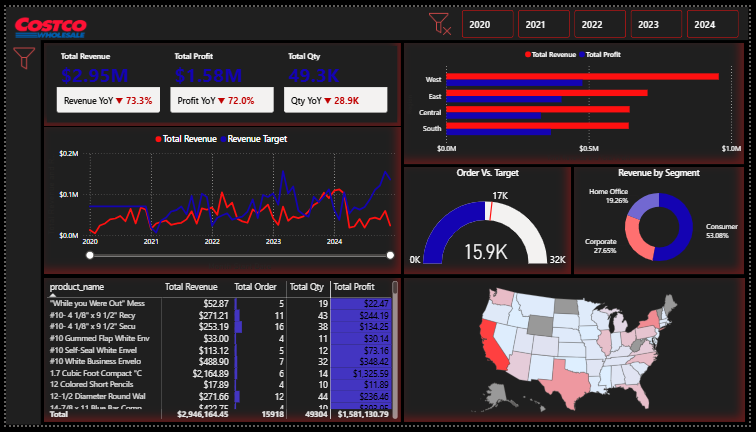

The dashboard page shown, as its layout file describes it:
{"tool":"powerbi","page":{"name":"Dashboard_1","canvas":[1280,720],"ordinal":0},"visuals":[{"type":"shape","box":[0,0,1280,57],"z":0},{"type":"shape","box":[0,0,60.5,720],"z":1000},{"type":"image","box":[0,0,155.5,70.6],"z":2000},{"type":"clusteredBarChart","fields":{"Category":["customers.Region"],"Y":["_Measures.Total Revenue","_Measures.Total Profit"]},"box":[685.9,61.8,586.1,209.1],"z":6000},{"type":"lineChart","fields":{"Y":["_Measures.Total Revenue","_Measures.Revenue Target"],"Category":["Date_table.Month Start Date"]},"box":[64.8,207.4,614.9,253],"z":7000},{"type":"gauge","title":"Order Vs. Target","fields":{"Y":["_Measures.Total Order"],"TargetValue":["_Measures.Target Order"]},"box":[685.9,275.6,288.3,185.3],"z":8000},{"type":"donutChart","title":"Revenue by Segment","fields":{"Category":["customers.Segment"],"Y":["_Measures.Total Revenue"]},"box":[979.4,276.3,293,185.2],"z":9000},{"type":"pivotTable","fields":{"Rows":["products.product_name"],"Columns":["products.product_name"],"Values":["_Measures.Total Revenue","_Measures.Total Order","_Measures.Total Qty","_Measures.Total Profit"]},"box":[64.8,468,614.9,247.7],"z":10000},{"type":"shapeMap","fields":{"Category":["customers.State"],"Value":["_Measures.Total Revenue"]},"box":[685.4,468,587.5,247.7],"z":11000},{"type":"image","title":"Clear Filter button","box":[728.5,4.7,37.9,47.4],"z":13000},{"type":"image","title":"open filter pane button","box":[10.1,67.7,41.8,43.2],"z":14000},{"type":"cardVisual","fields":{"Data":["_Measures.Total Revenue","_Measures.Total Profit","_Measures.Total Qty"]},"box":[65,61.8,614.7,142.6],"z":14500},{"type":"advancedSlicerVisual","fields":{"Values":["Date_table.Year"]},"box":[781,0,491.1,58.6],"z":17001}]}

Visuals, with their boxes in screenshot pixels (x1, y1, x2, y2), scaled from the page's 1280x720 canvas onto the 756x432 screenshot:
shape: 0 0 755 34
shape: 0 0 36 431
image: 0 0 92 42
clusteredBarChart - customers.Region x _Measures.Total Revenue: 405 37 751 163
lineChart - _Measures.Total Revenue x _Measures.Revenue Target: 38 124 401 276
"Order Vs. Target" gauge: 405 165 575 277
"Revenue by Segment" donutChart: 578 166 752 277
pivotTable - products.product_name x products.product_name: 38 281 401 429
shapeMap - customers.State x _Measures.Total Revenue: 405 281 752 429
"Clear Filter button" image: 430 3 453 31
"open filter pane button" image: 6 41 31 67
cardVisual - _Measures.Total Revenue x _Measures.Total Profit: 38 37 401 123
advancedSlicerVisual - Date_table.Year: 461 0 751 35
